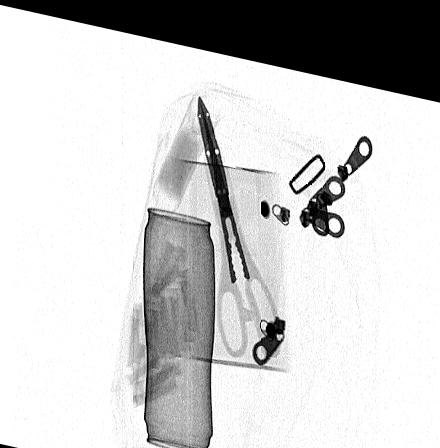Scissors: (197, 84, 286, 346)
